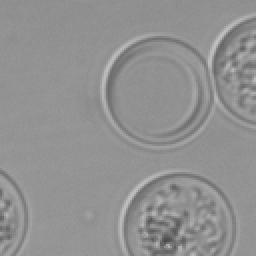picoshell: (100, 34, 214, 150), (118, 170, 236, 254), (208, 14, 254, 128), (0, 170, 28, 254)
